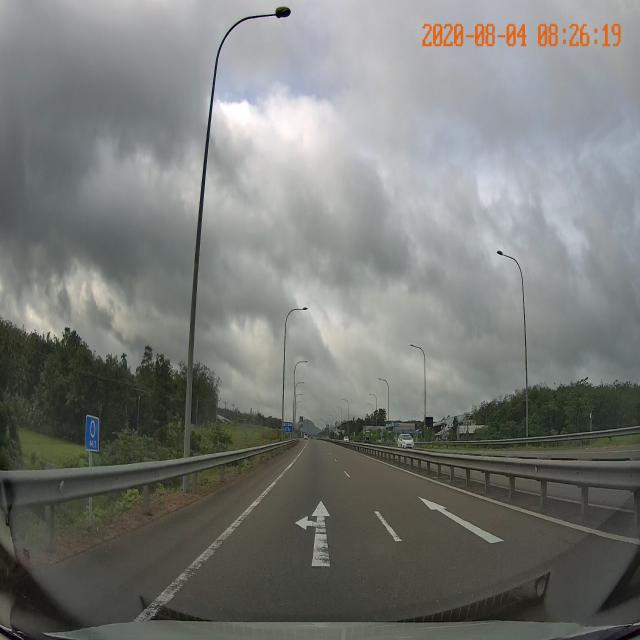Strelka vpered: (414, 494, 506, 546)
Strelka vpered - vlevo: (292, 499, 332, 568)
